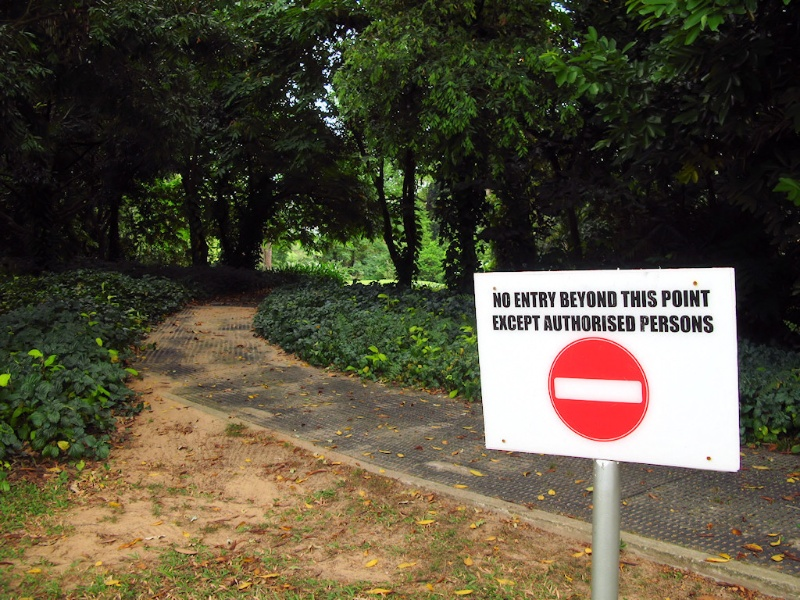no_entry: (548, 327, 651, 446)
